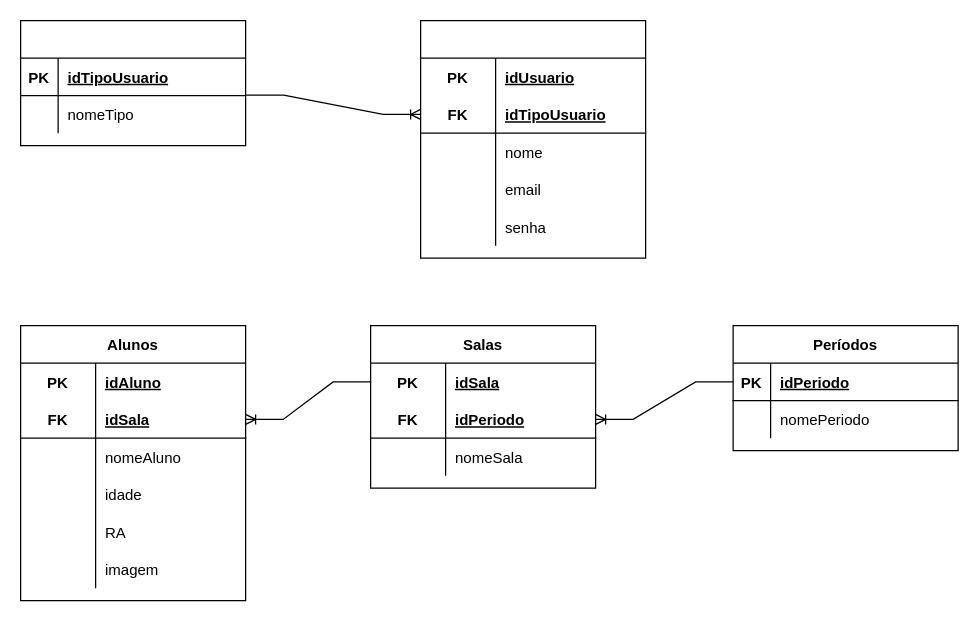
This 979x621 diagram has some shape labels left out. Each missing label, with the box of its shape:
TipoUsuarios: (19, 19, 246, 146)
Usuários: (419, 19, 646, 258)
